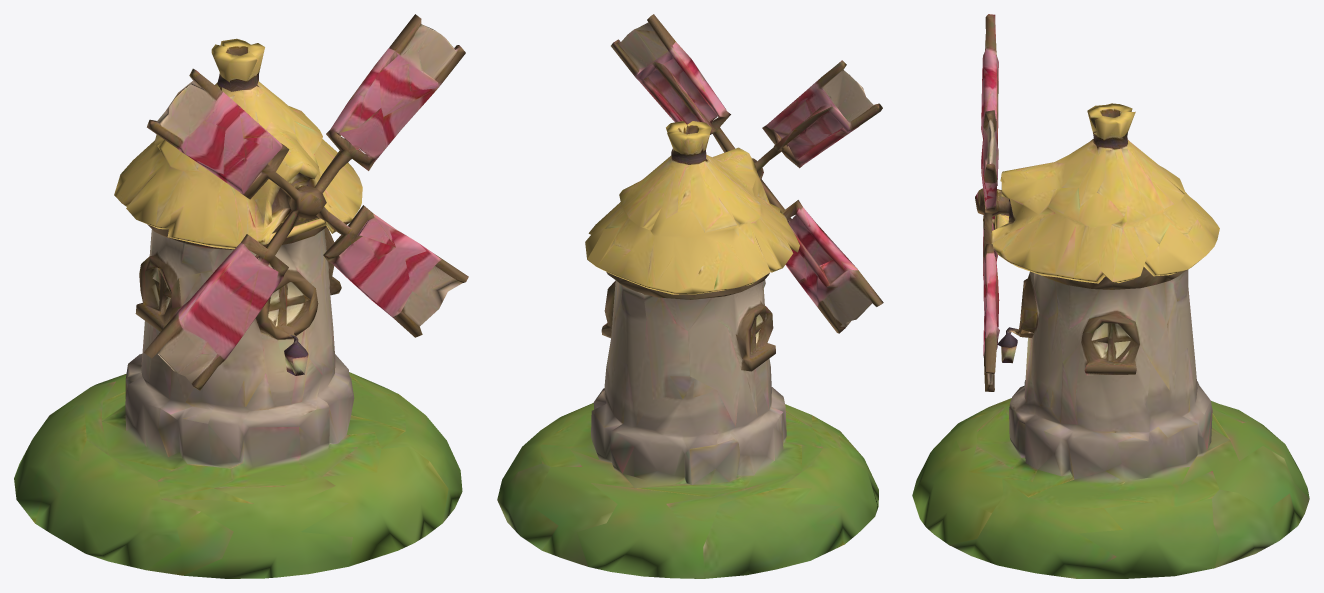
Rendered from repere-moulin.glb.
3 renders of one model, left to right at view 1: azimuth 30°, elevation 25°; view 2: azimuth 150°, elevation 25°; view 3: azimuth 270°, elevation 25°, orthographic. The views are drawn at different scales.
Parts seen in each view (by area): view 1: repere-moulin; view 2: repere-moulin; view 3: repere-moulin.
Part boxes in pixels (box(x1,y1,x2,y2)): repere-moulin: box(14, 14, 468, 578); repere-moulin: box(497, 14, 883, 578); repere-moulin: box(912, 14, 1309, 578).
Bounding box in the file's own units: 1.56 × 1.9 × 1.57.
1 material, 1 textured.
